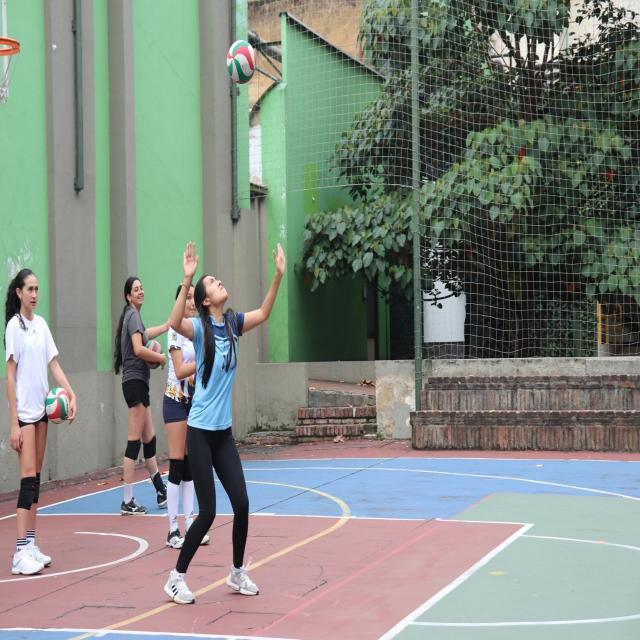volleyball: (226, 40, 256, 84), (45, 387, 71, 424), (146, 340, 163, 354)
